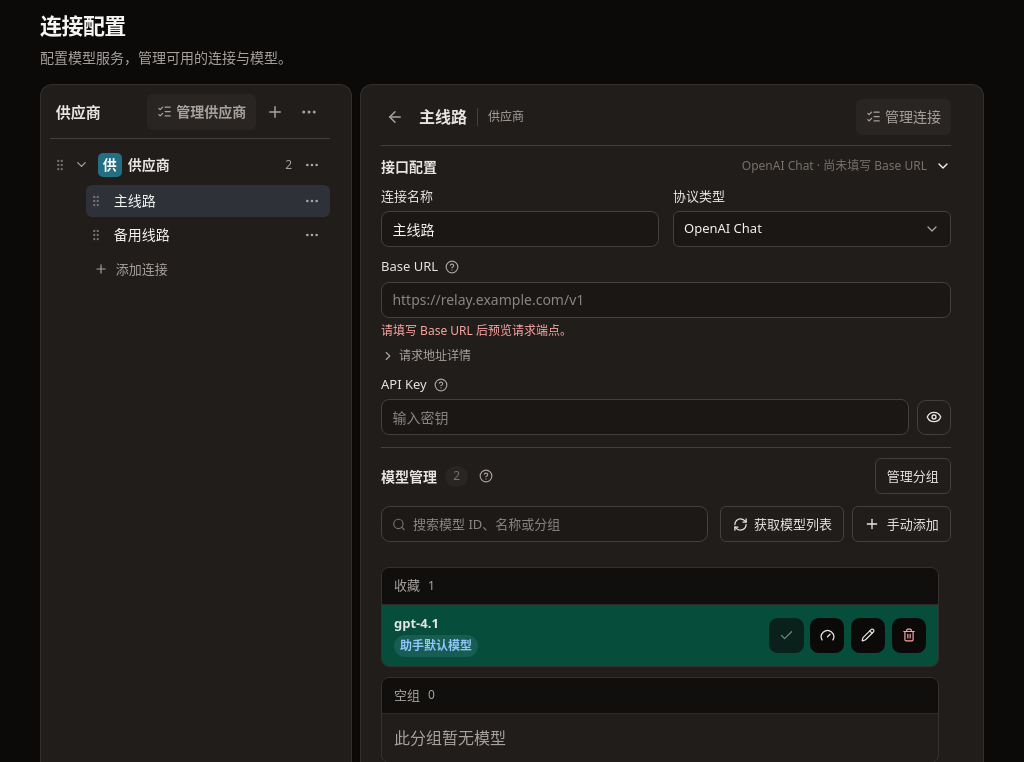
Test: ConnectionSettings custom groups › keeps unsaved model edits when group entry confirmation is cancelled
Click the button named "编辑模型 gpt-4.1".
click(868, 635)  # box [851,618,885,653]
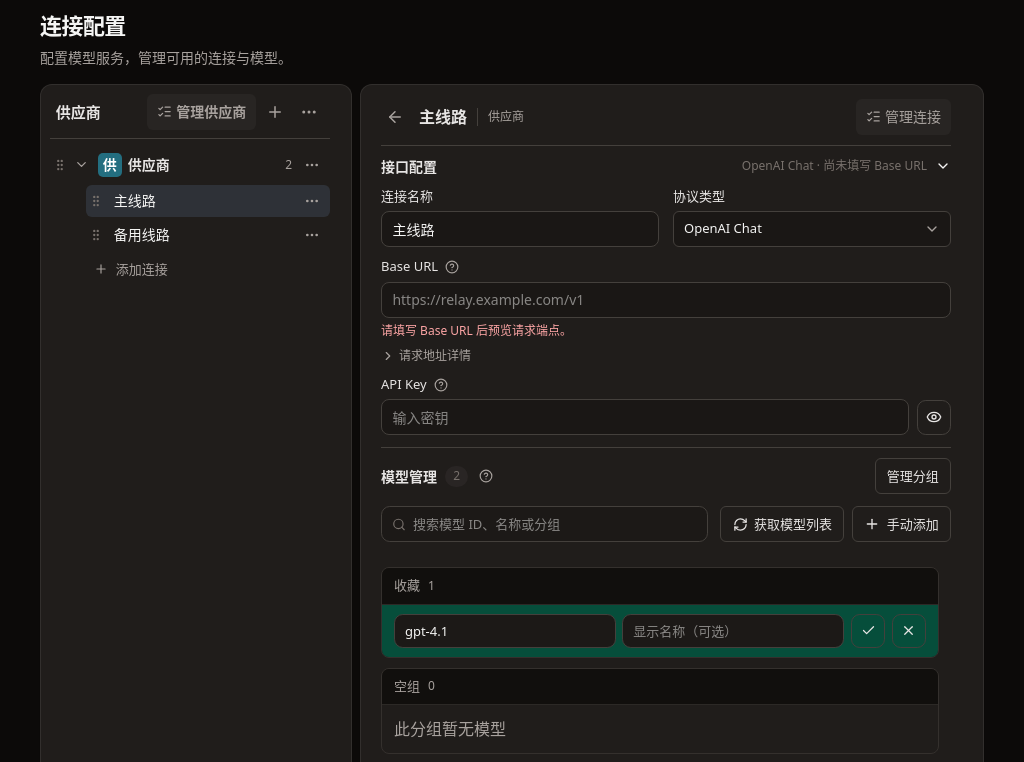
Click the button "管理分组".
click(913, 476)  # box [875,458,951,494]
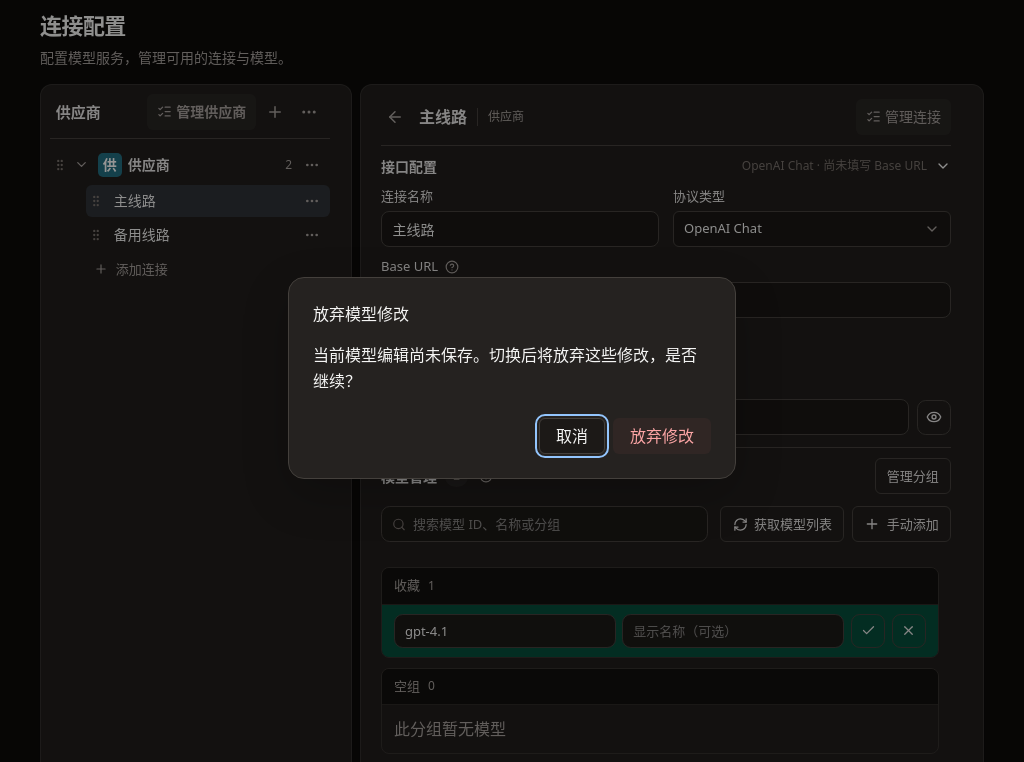
expect the dialog with class "confirmation-dialog" shows "放弃模型修改": met, box [313,303,409,325]
Click the button "取消".
click(572, 436)  # box [539,418,605,454]
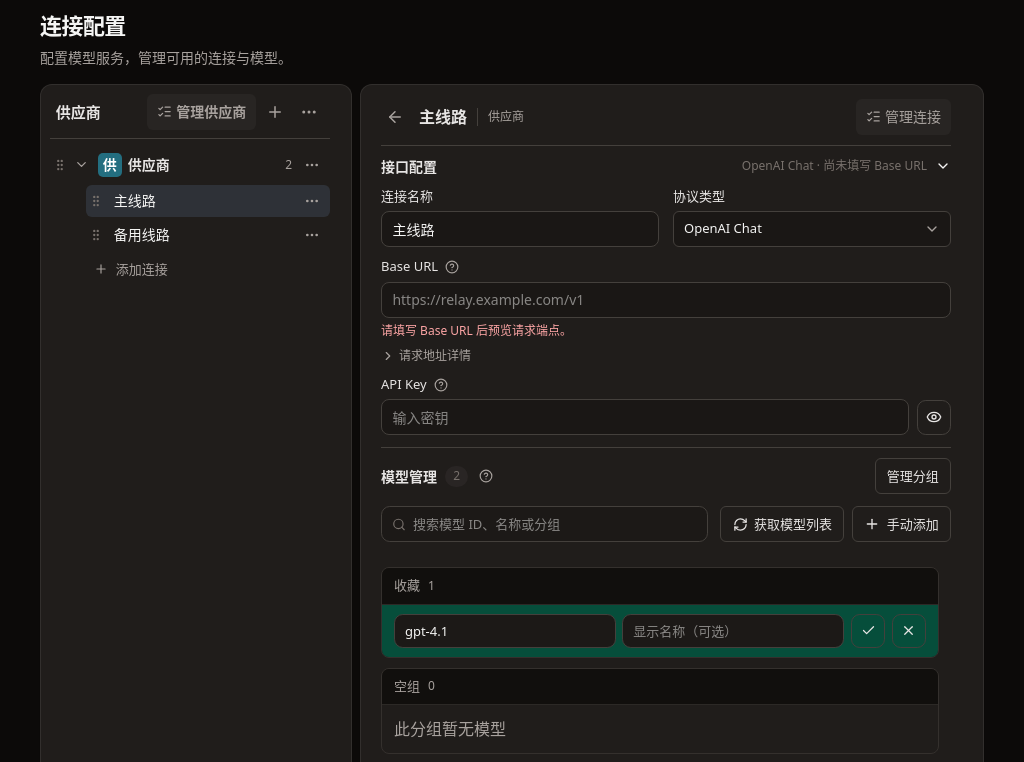
expect the form with class "model-edit-form" is shown: met, box [394,614,926,648]
Click the button "管理分组".
click(913, 476)  # box [875,458,951,494]
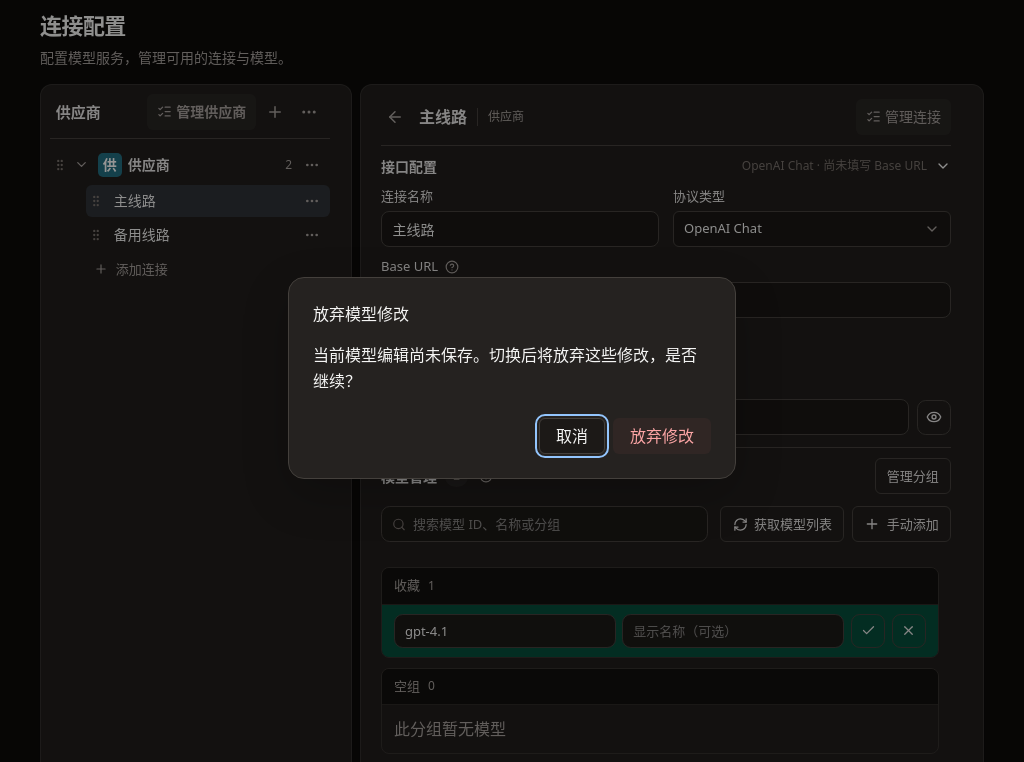
Click the button "放弃修改".
click(662, 436)  # box [613,418,711,454]
(page scrolled)
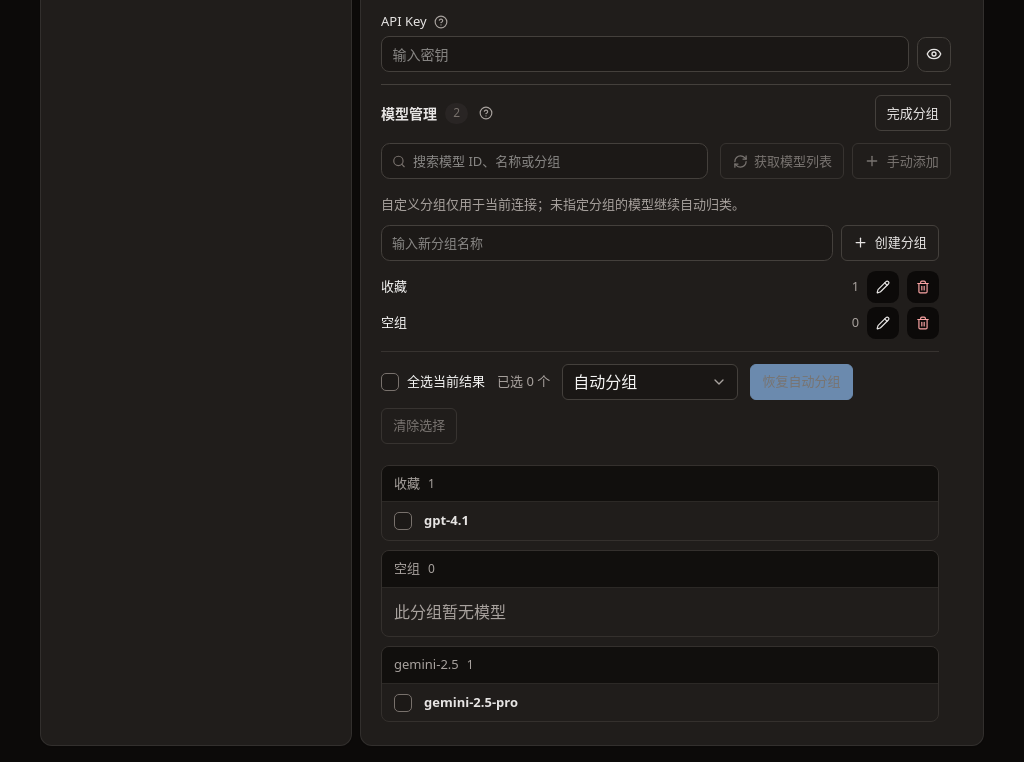
expect the form with class "model-edit-form" is gone: met
expect the element with class "model-group-management" is shown: met, box [381,196,951,731]
